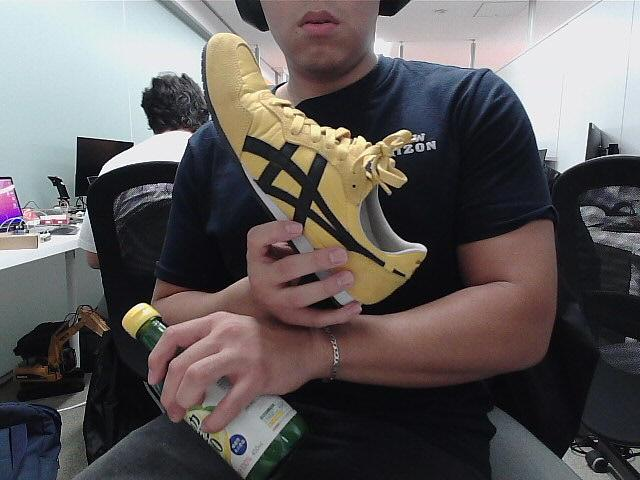Lemon_sapporo: (115, 299, 312, 480)
Shoes: (199, 28, 429, 312)
